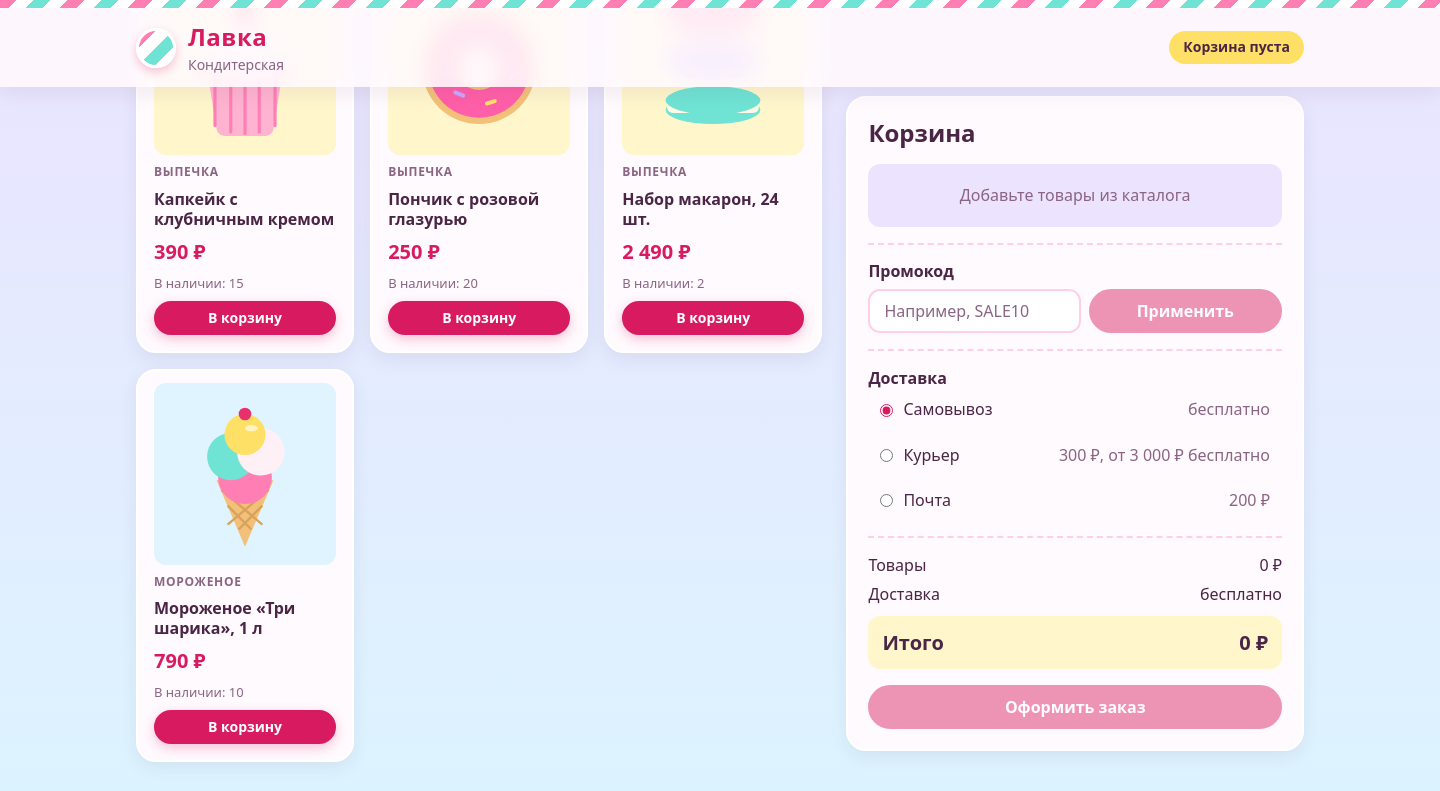
it: «Лавка» на классах › откладывает и возвращает позиции; отложенные не участвуют в расчете
(page scrolled)
Click the button with aria-label "В корзину: Мороженое «Три шарика», 1 л": click(245, 727) x1=154 y1=710 x2=336 y2=744
(page scrolled)
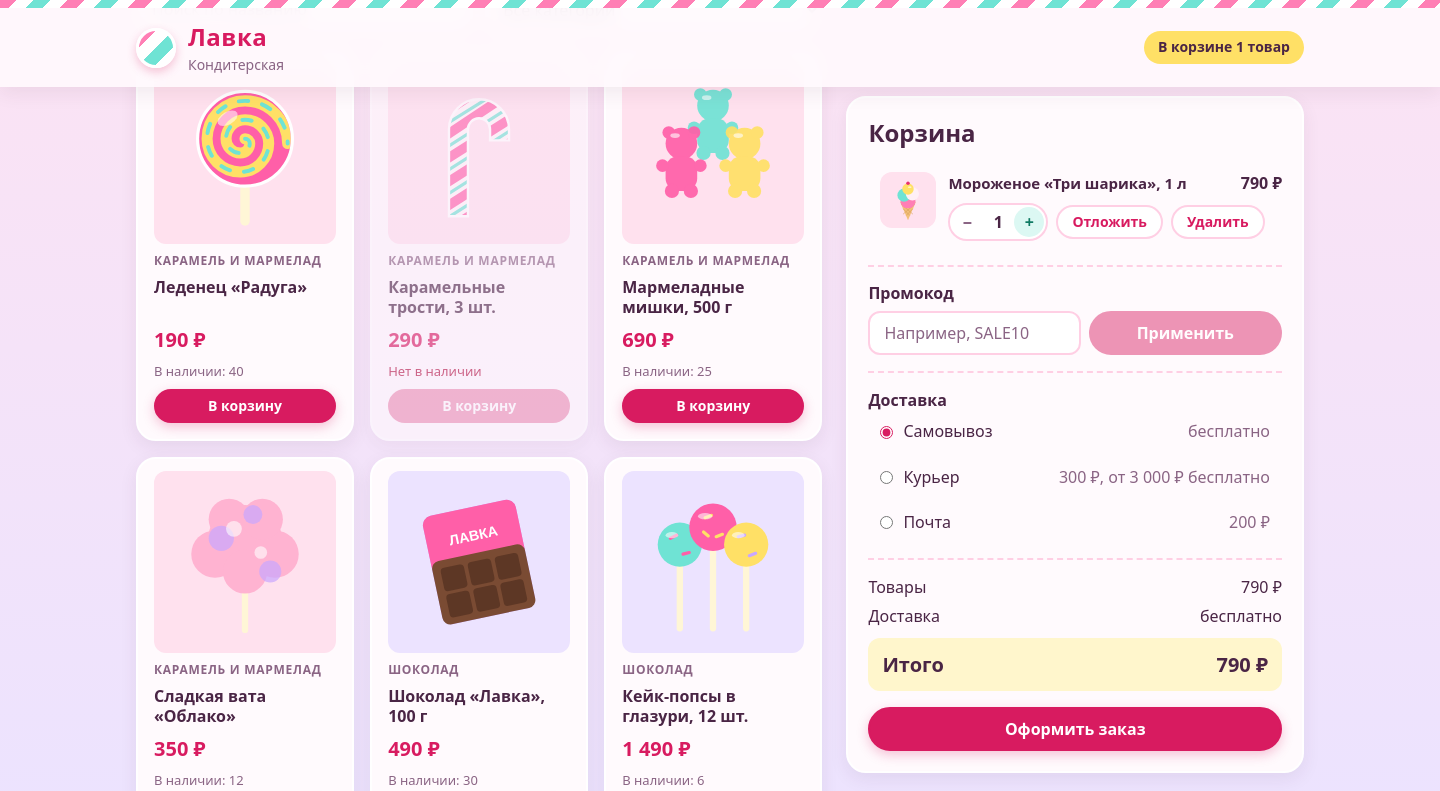
Click the button with aria-label "В корзину: Мармеладные мишки, 500 г": click(713, 406) x1=622 y1=389 x2=804 y2=423
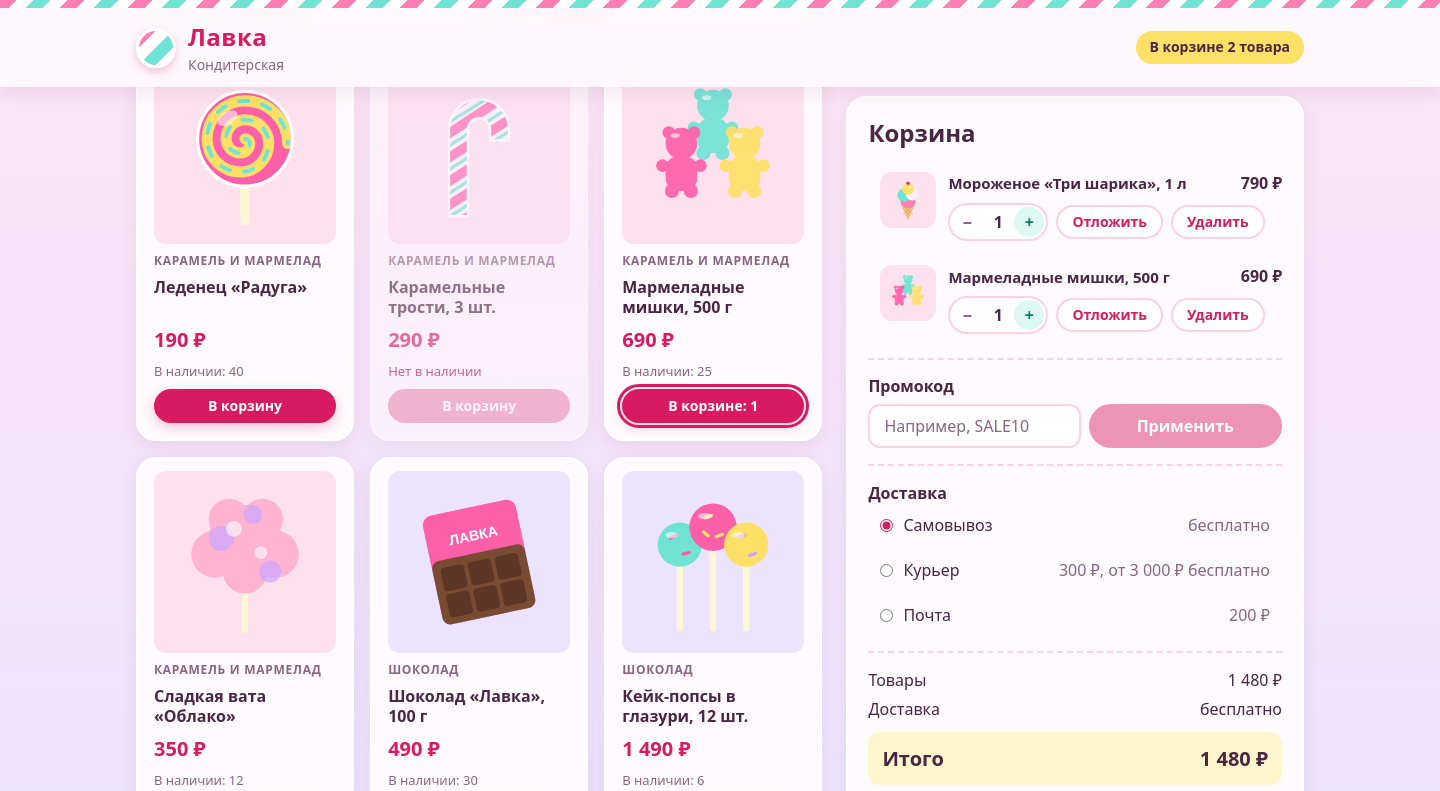
Click the 1st button "Отложить": click(1110, 222) x1=1056 y1=205 x2=1163 y2=239
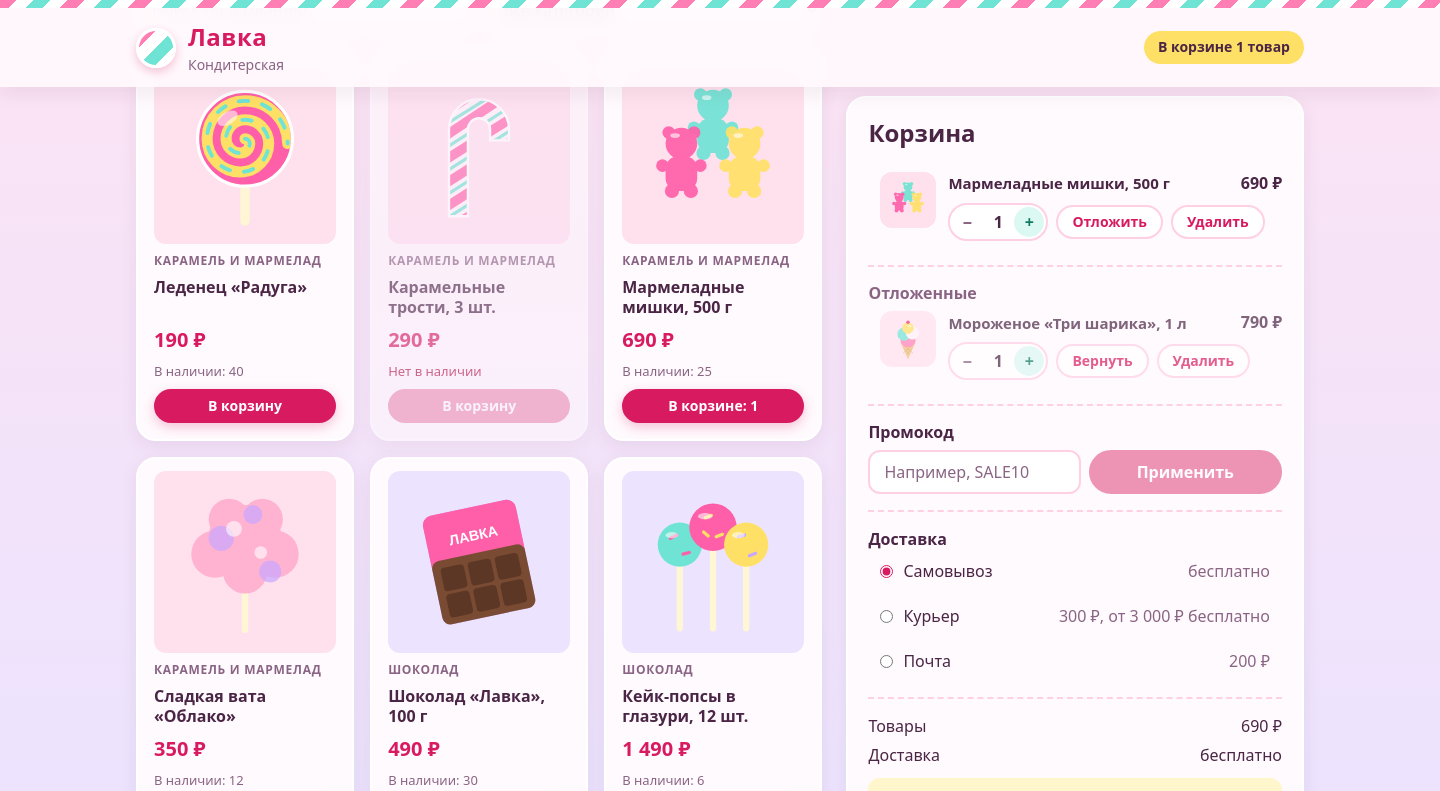
Result: the heading "Отложенные" is shown at x1=868 y1=282 x2=977 y2=304
Click the button "Вернуть": click(1102, 361) x1=1056 y1=344 x2=1148 y2=378
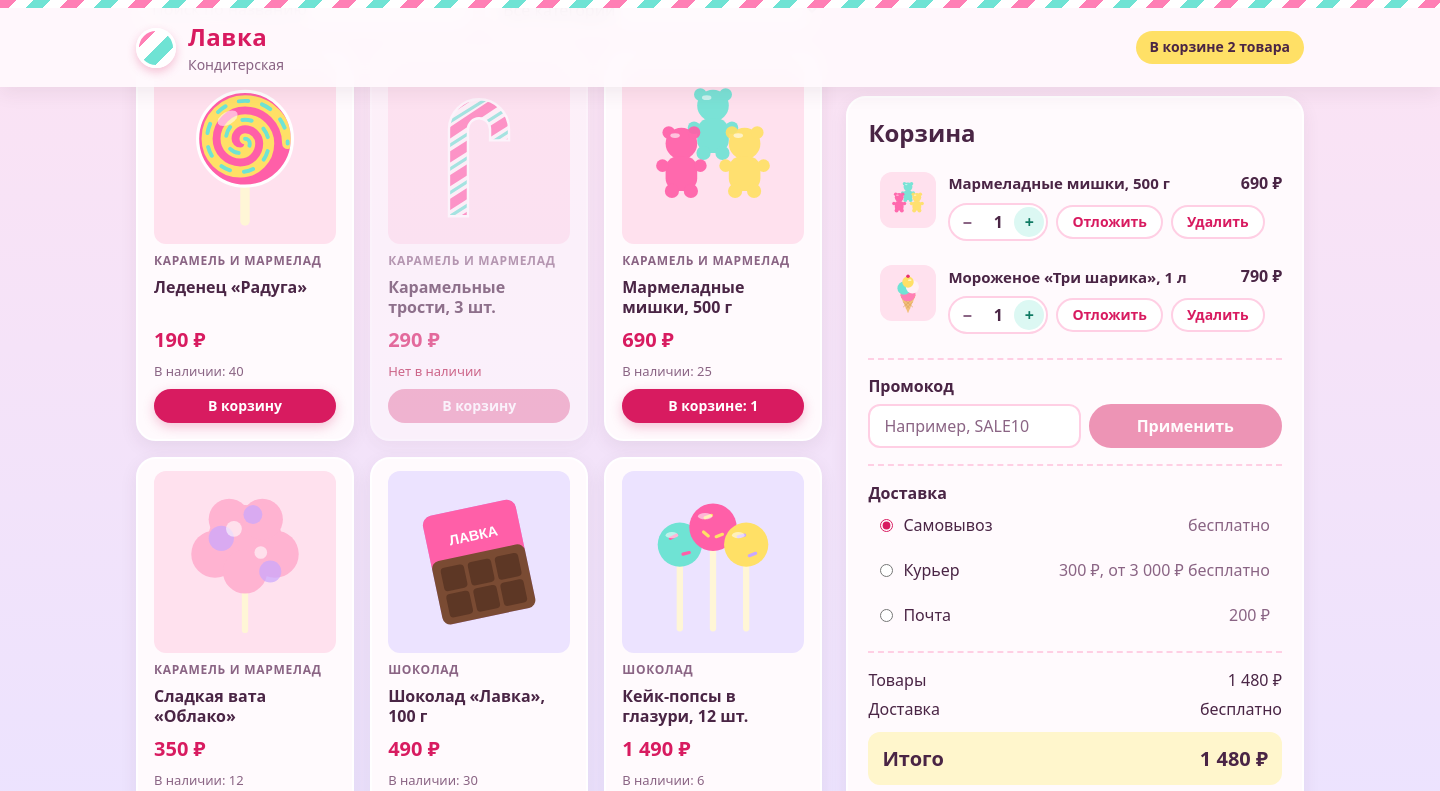
Result: the heading "Отложенные" is gone
Result: the text named "Итого" reads "1 480 ₽" at x1=1200 y1=744 x2=1268 y2=772
Click the button with aria-label "Удалить: Мармеладные мишки, 500 г": click(1218, 222) x1=1171 y1=205 x2=1265 y2=239
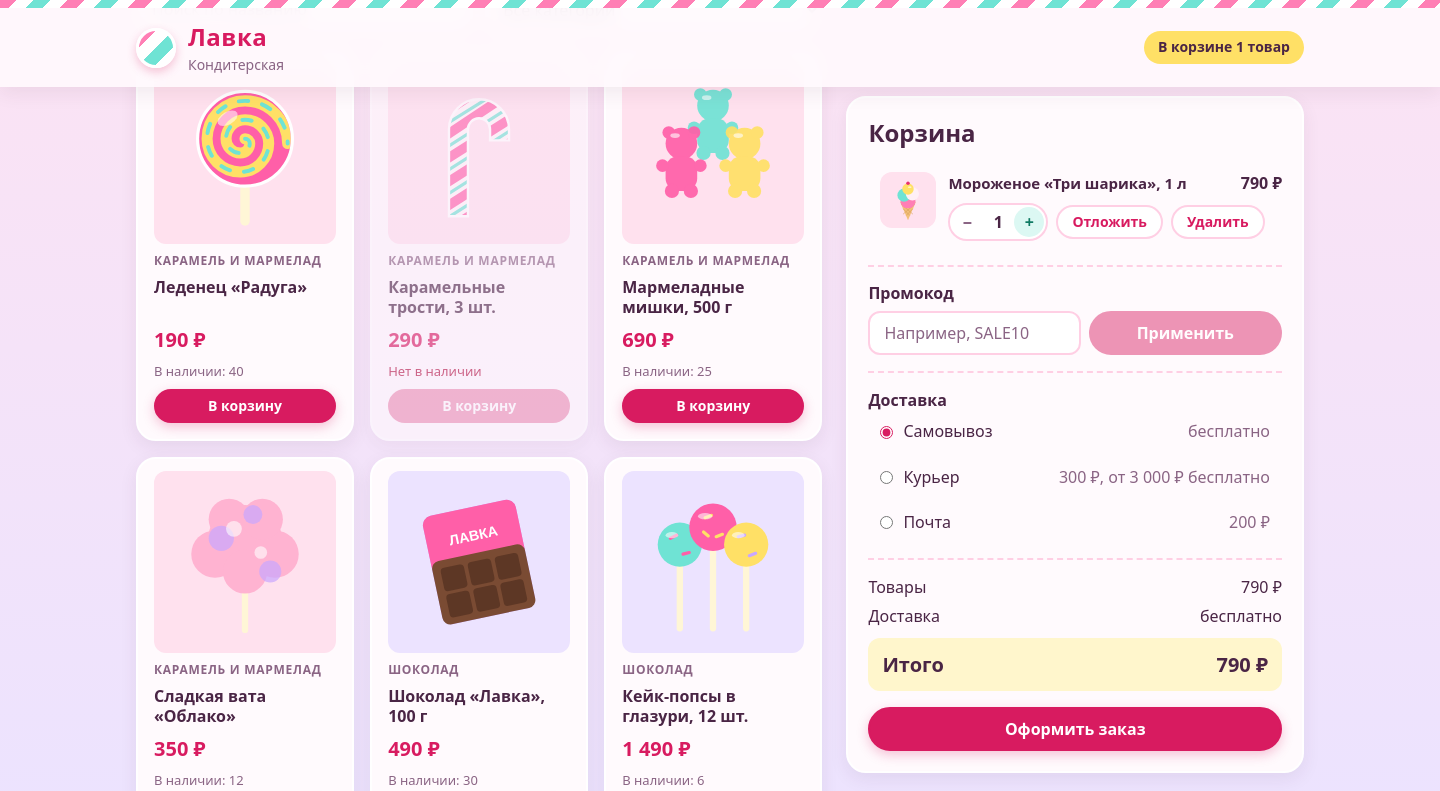
Result: the text named "Итого" reads "790 ₽" at x1=1216 y1=651 x2=1268 y2=678
